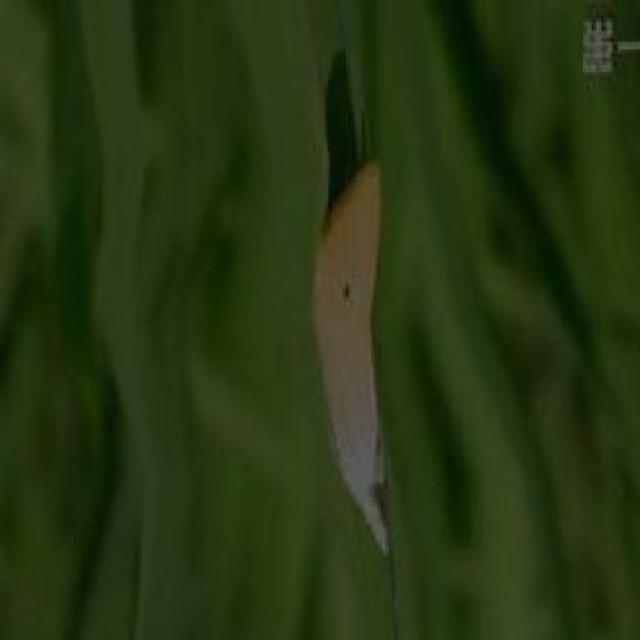stem-borer: (306, 153, 394, 559)
